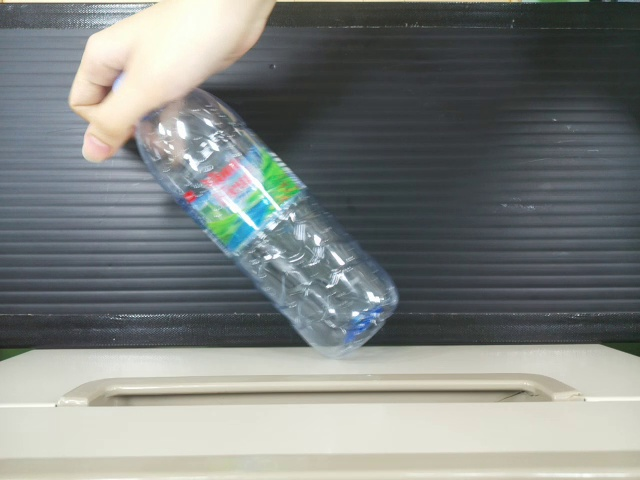bottle: (90, 64, 407, 352)
